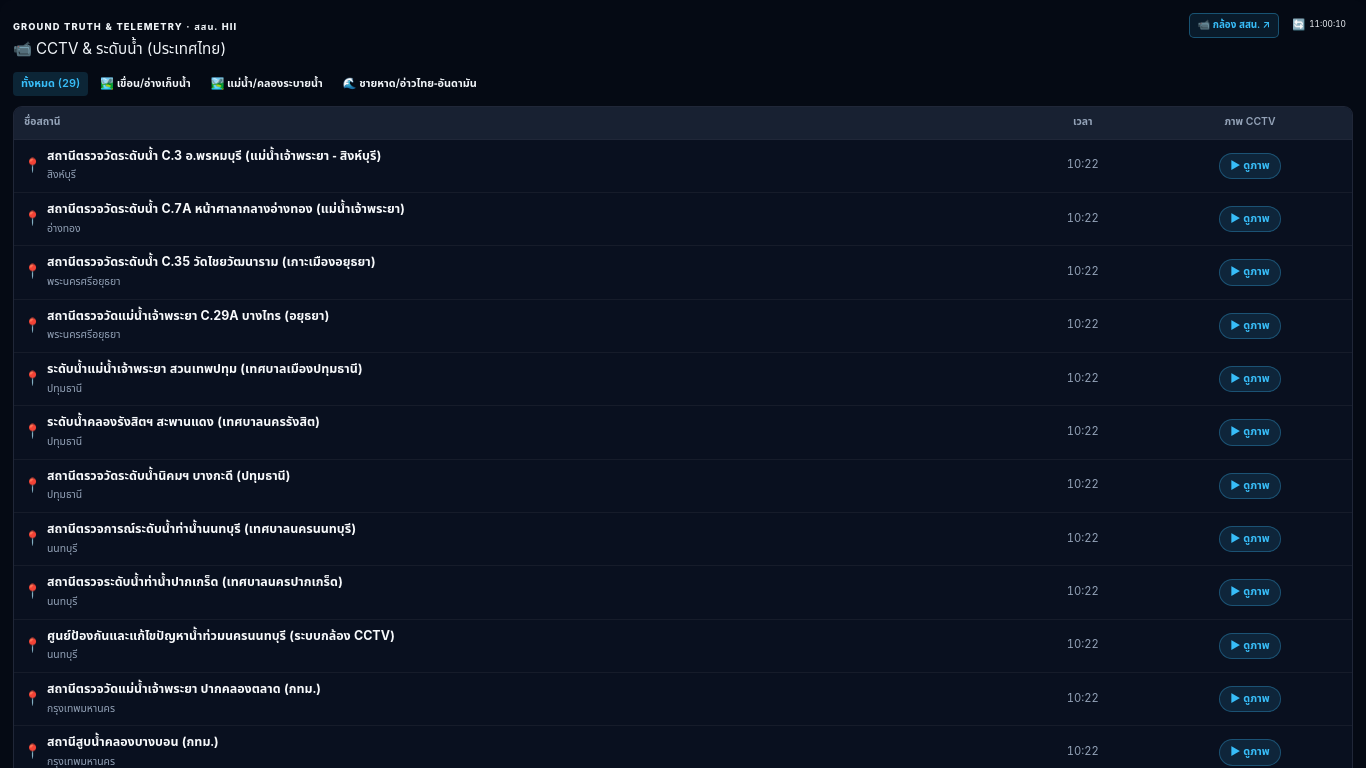
Test case: CctvPanel component › filters coastal and inland stations using tabs
Click the button "🌊 ชายหาด/อ่าวไทย-อันดามัน" at coordinates (410, 84), box [335,72,485,96]
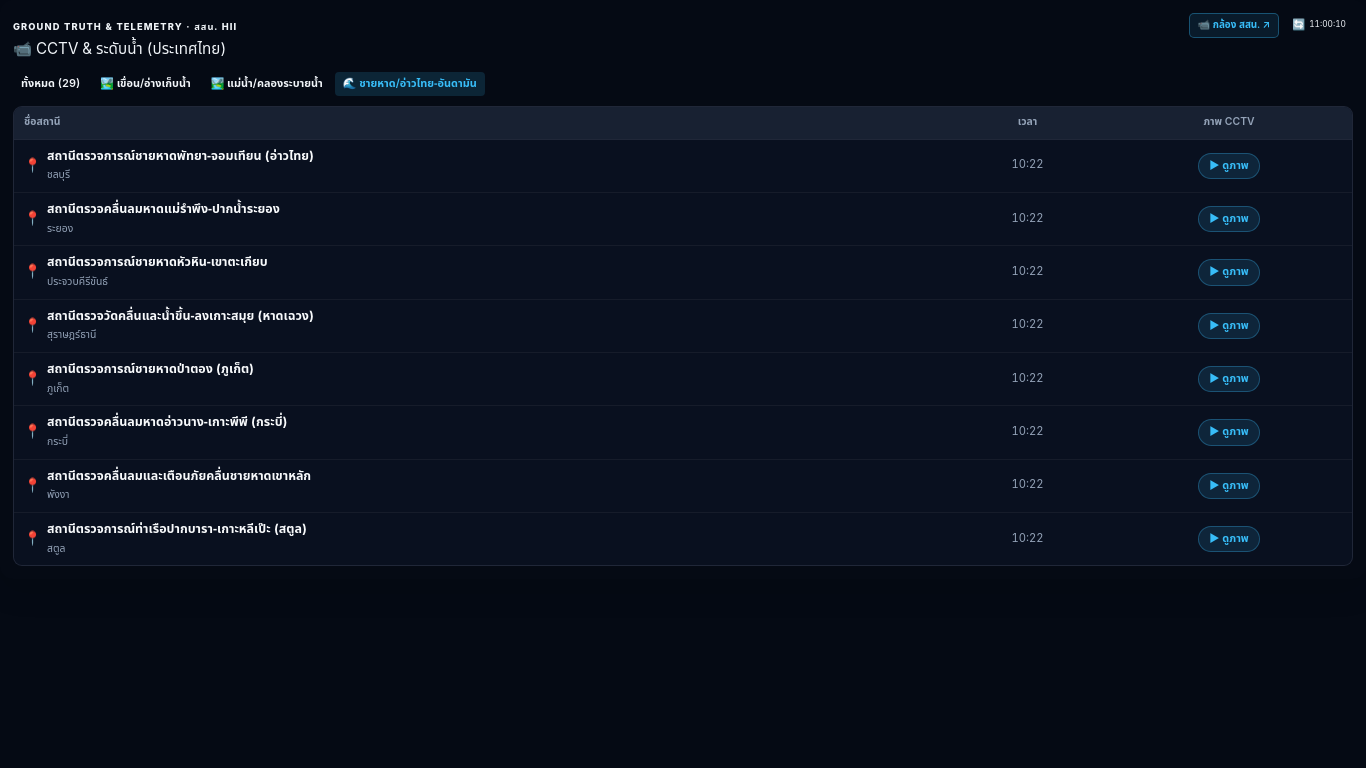
Expected: the text "สถานีตรวจการณ์ชายหาดพัทยา-จอมเทียน (อ่าวไทย)" is shown, [47,148,314,166]
Click the button "🏞️ แม่น้ำ/คลองระบายน้ำ" at coordinates (267, 84), box [203,72,331,96]
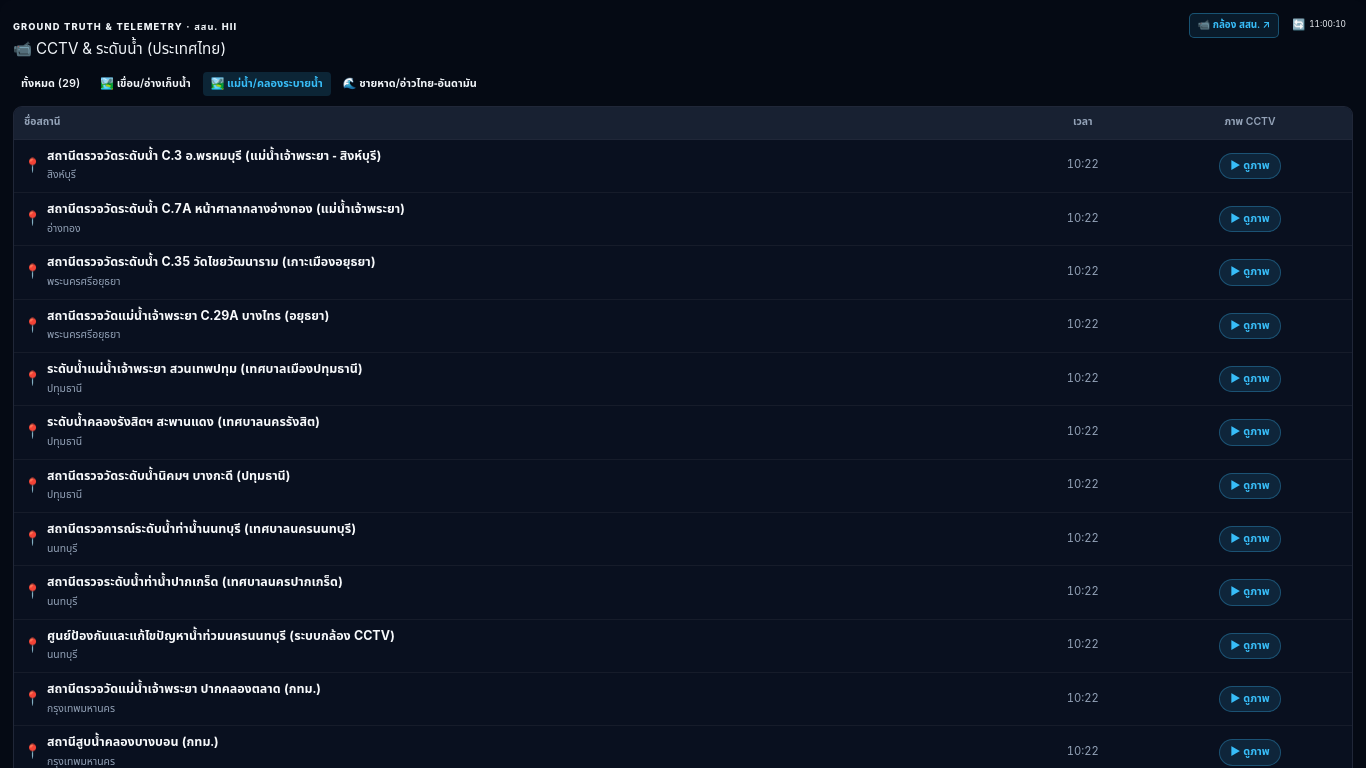
Expected: the text "สถานีสูบน้ำคลองบางบอน (กทม.)" is shown, [47,734,219,753]
